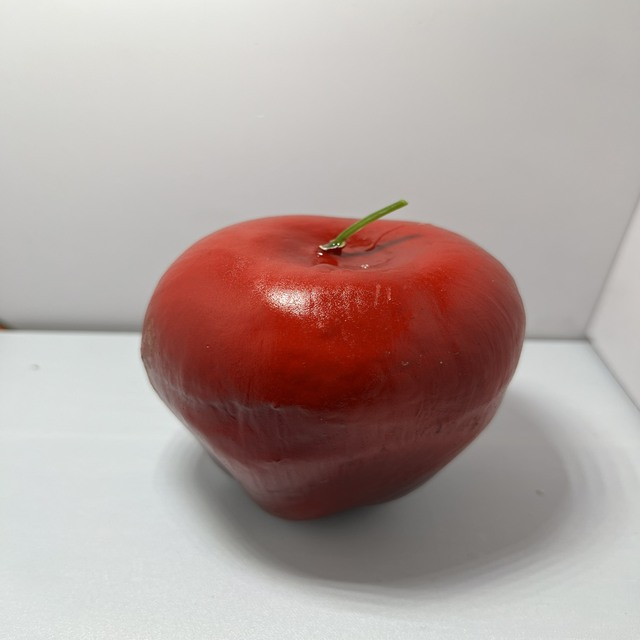Tao: (135, 200, 538, 531)
